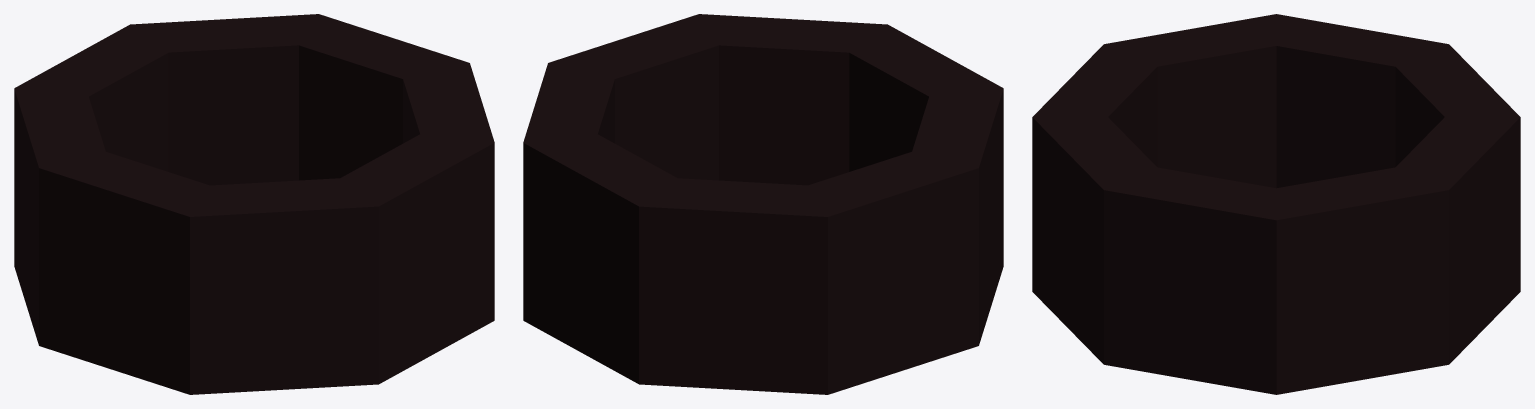
File: tire.fbx
3 renders of one model, left to right at view 1: azimuth 30°, elevation 25°; view 2: azimuth 150°, elevation 25°; view 3: azimuth 270°, elevation 25°, orthographic.
Parts seen in each view (by area): view 1: Cube.001; view 2: Cube.001; view 3: Cube.001.
Boxes of the visible parts, x1,y1,x2,y2 form: Cube.001: [14, 14, 494, 394]; Cube.001: [523, 14, 1003, 394]; Cube.001: [1032, 14, 1520, 394].
Size of the model in its own units: 96.99 by 38.3 by 96.99.
